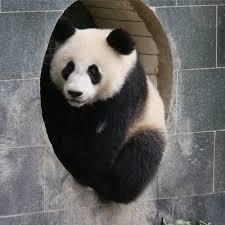bear: (41, 18, 167, 205)
